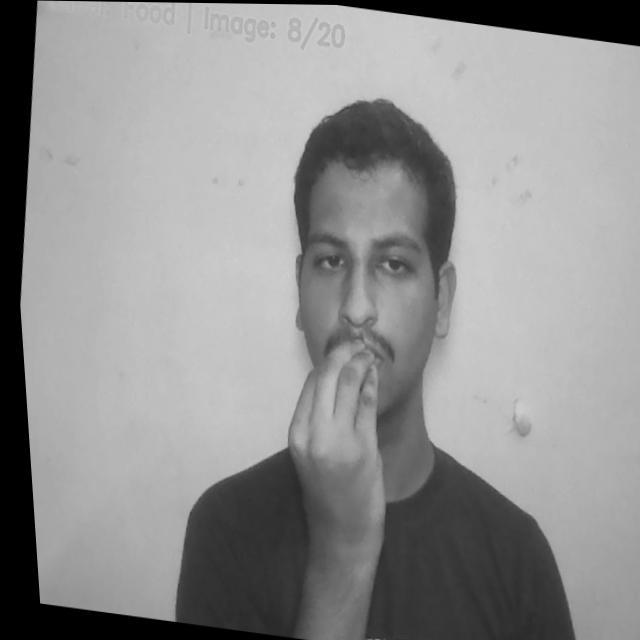Food: (253, 322, 408, 626)
